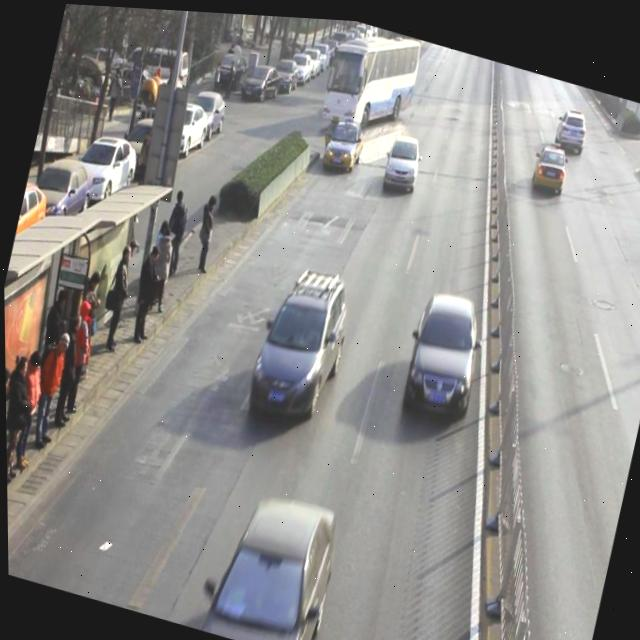car: (194, 472, 344, 640), (242, 255, 358, 432), (397, 280, 491, 423), (379, 126, 426, 193), (320, 110, 368, 173), (529, 132, 570, 189), (551, 99, 591, 149)
van: (317, 19, 422, 138)
